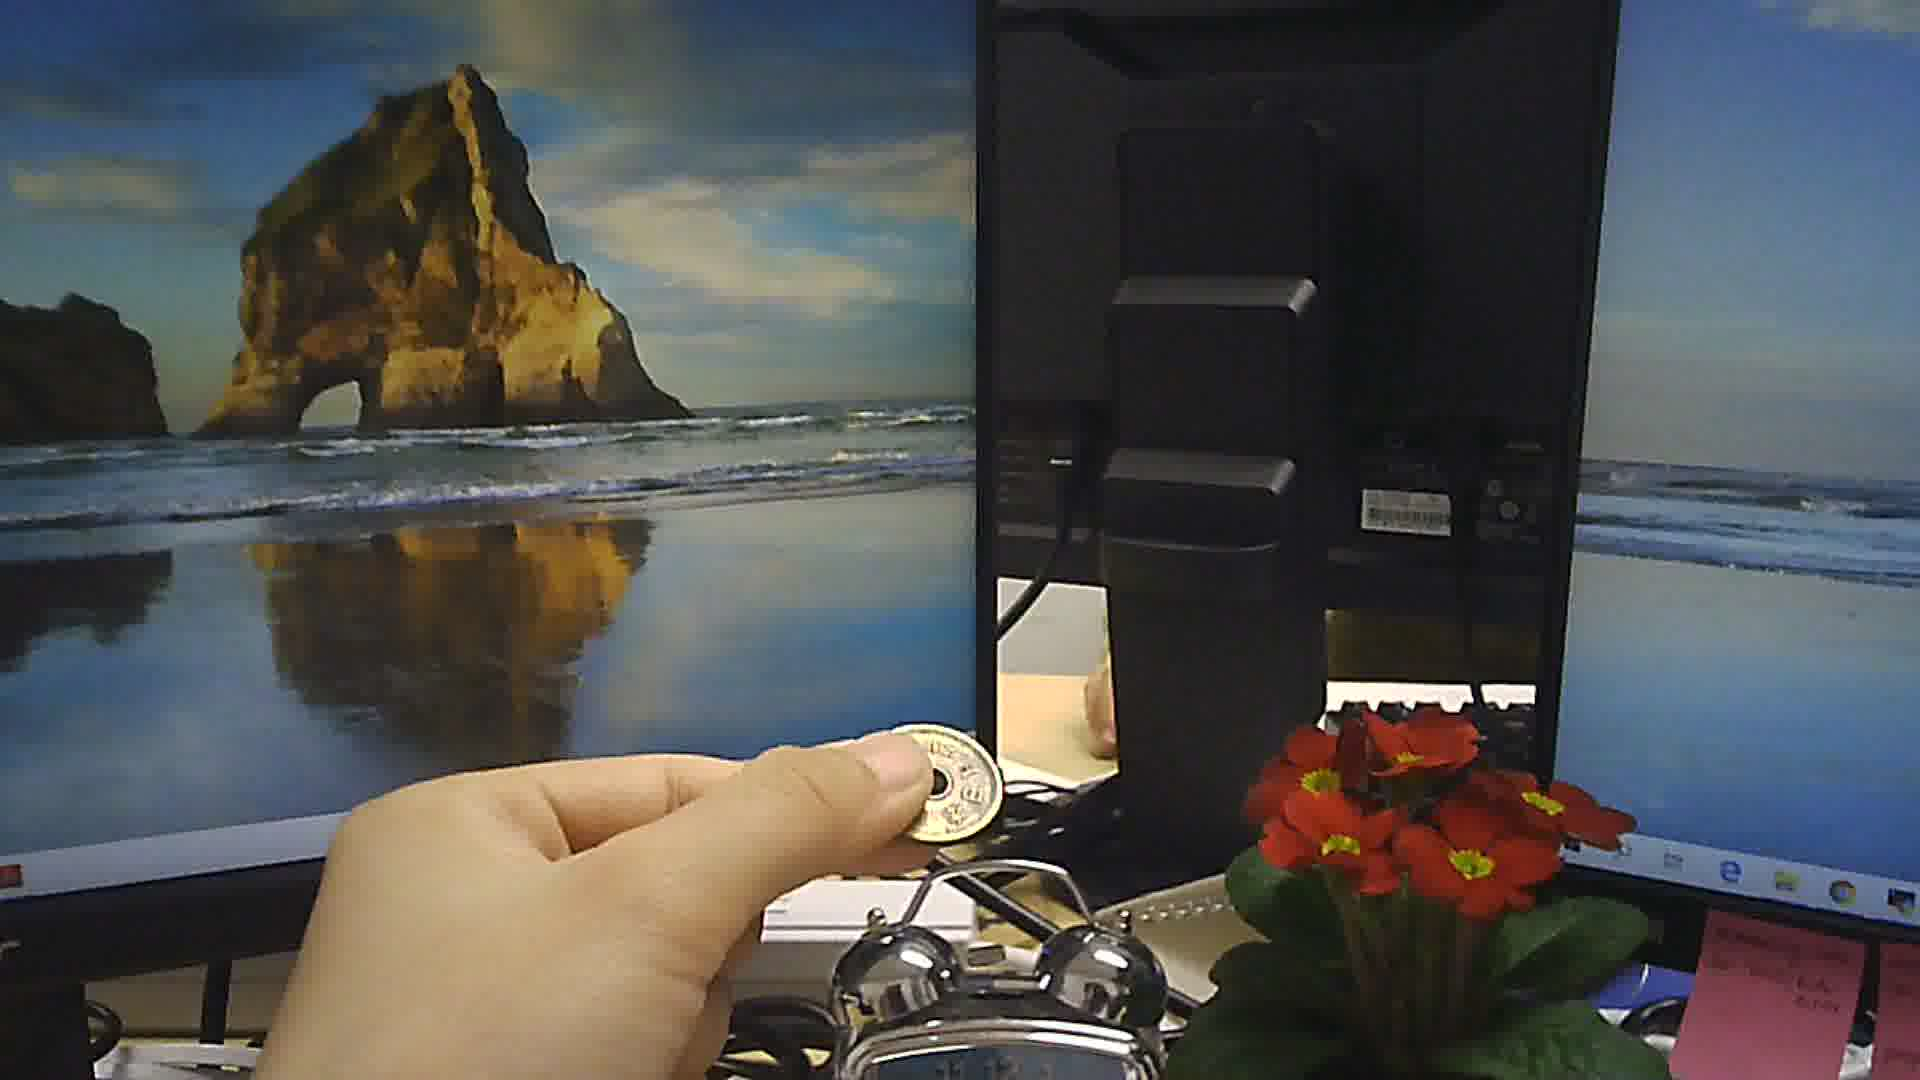5 Yen: (869, 705, 1019, 848)
